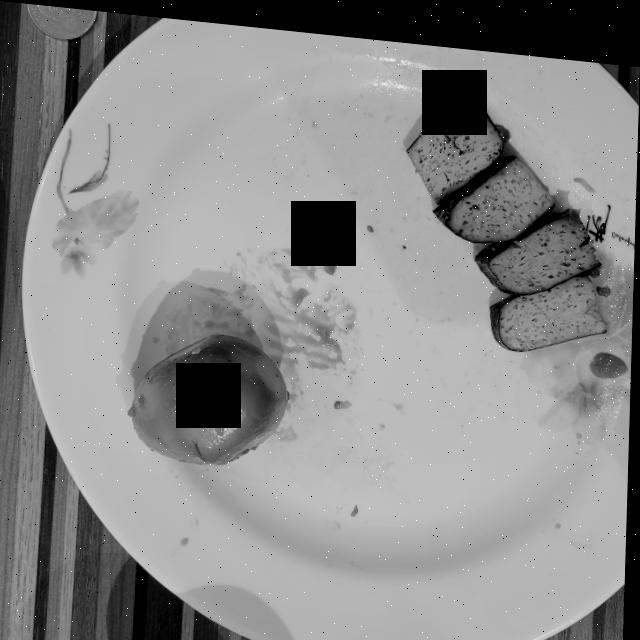coin: (27, 2, 97, 37)
firm tofu: (407, 94, 607, 339)
soy egg: (131, 329, 290, 459)
